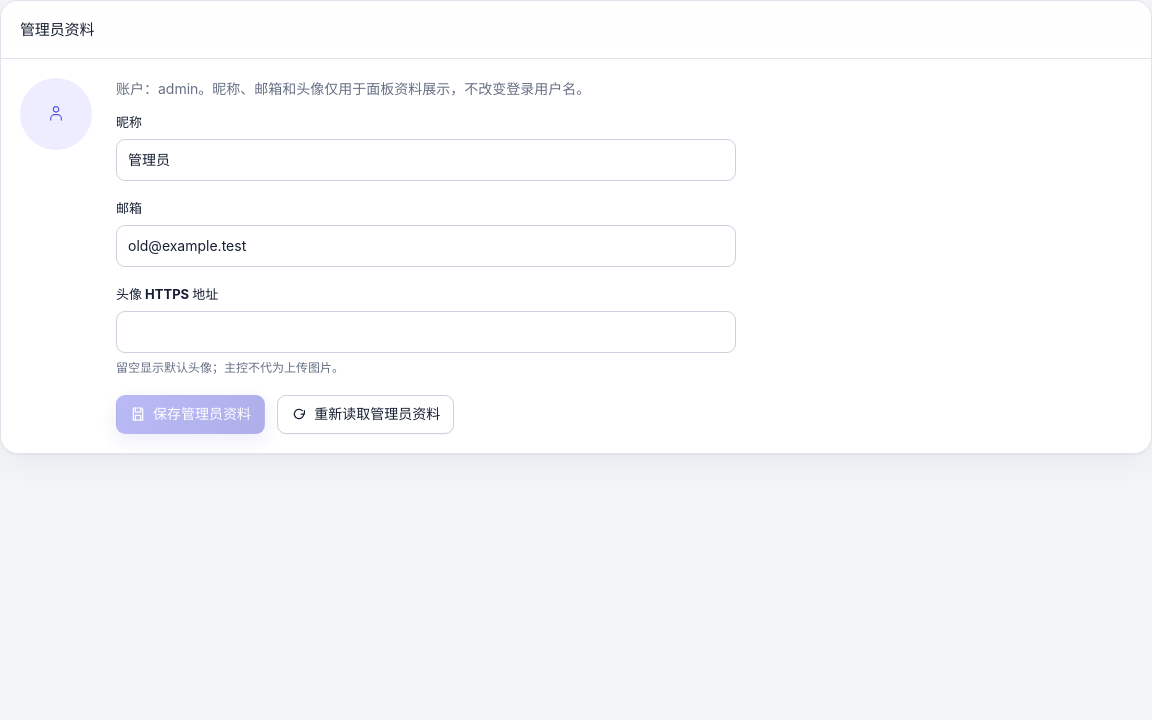
Scenario: administrator profile panel › loads and saves a revision-bound Chinese profile
Replace the text in the field labelled "邮箱" with "new@example.test": (426, 246) x1=116 y1=225 x2=736 y2=267
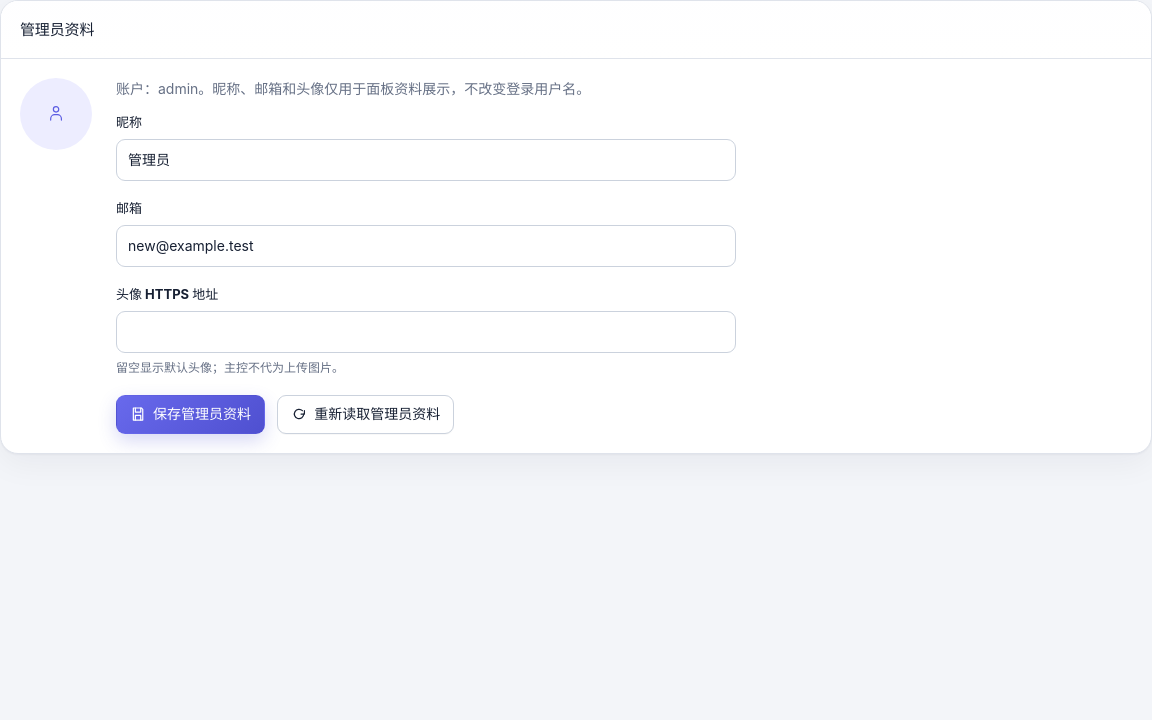
Click the button "保存管理员资料": click(191, 414) x1=116 y1=395 x2=265 y2=434
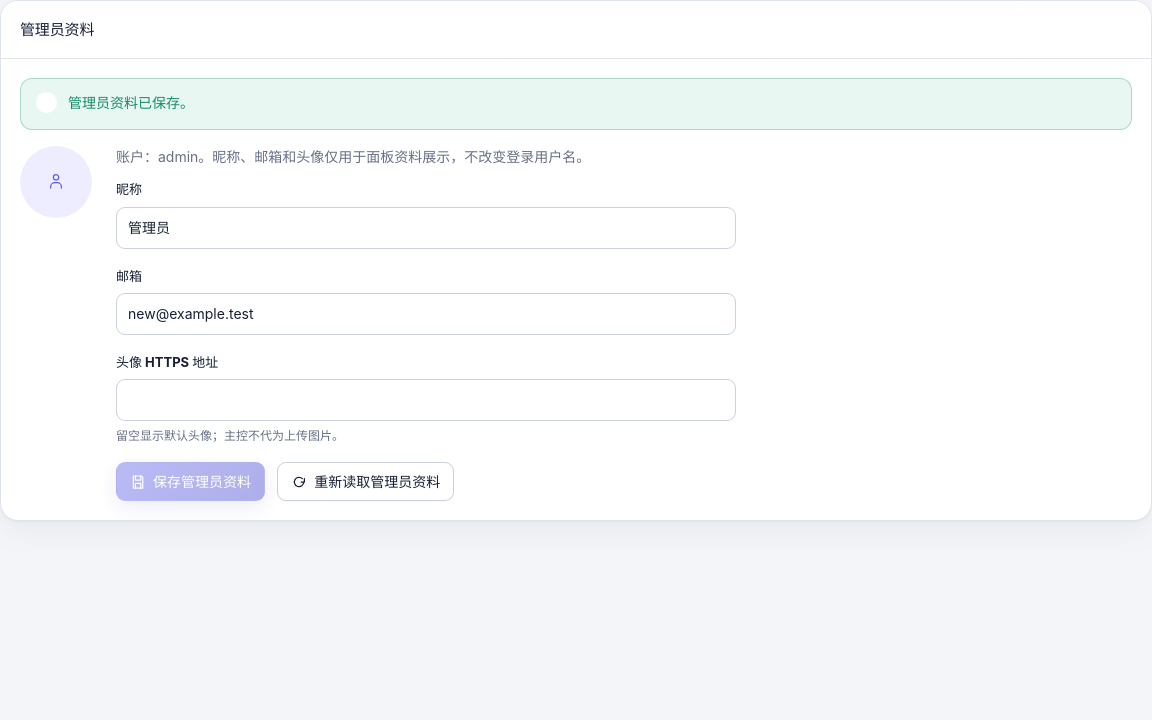
expect the text "管理员资料已保存。" is shown: met, box x1=68 y1=94 x2=194 y2=111
